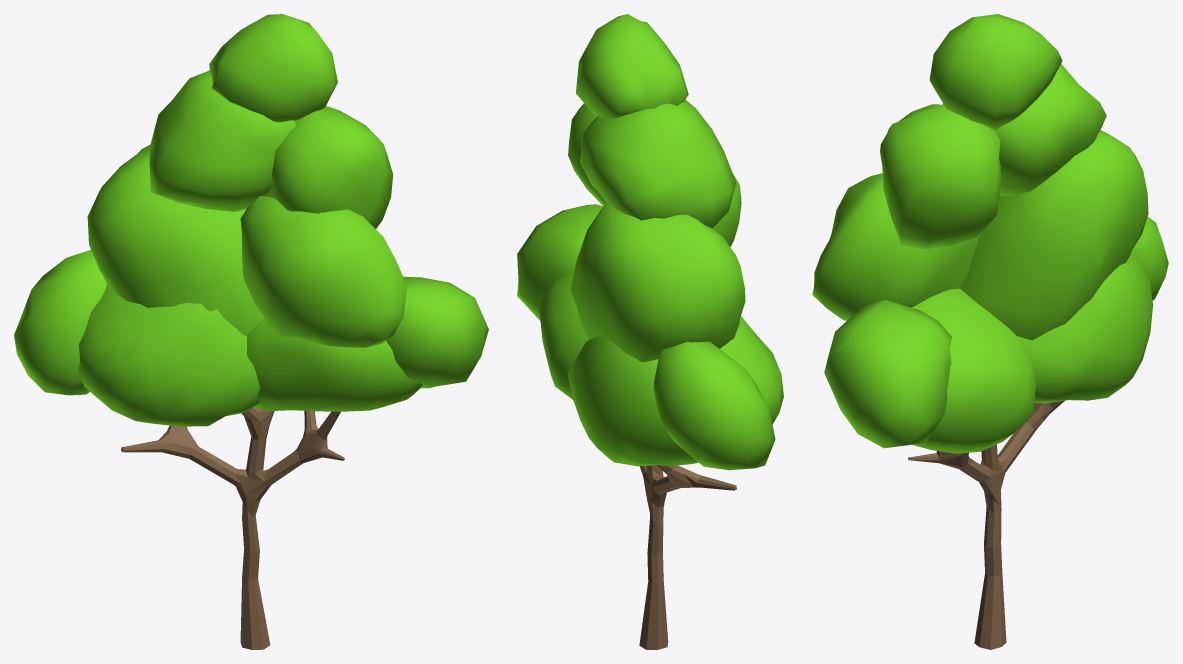
Rendered from Tree11.fbx.
3 renders of one model, left to right at view 1: azimuth 30°, elevation 25°; view 2: azimuth 150°, elevation 25°; view 3: azimuth 270°, elevation 25°, orthographic. The views are drawn at different scales.
Parts seen in each view (by area): view 1: Tree_11.001, Tree_11; view 2: Tree_11.001, Tree_11; view 3: Tree_11.001, Tree_11.
Boxes of the visible parts, x1,y1,x2,y2 form: Tree_11.001: (14, 14, 488, 426); Tree_11: (121, 407, 344, 649); Tree_11.001: (517, 14, 783, 470); Tree_11: (639, 465, 736, 649); Tree_11.001: (812, 14, 1168, 453); Tree_11: (908, 400, 1064, 649).
Size of the model in its own units: 292 by 486 by 244.
